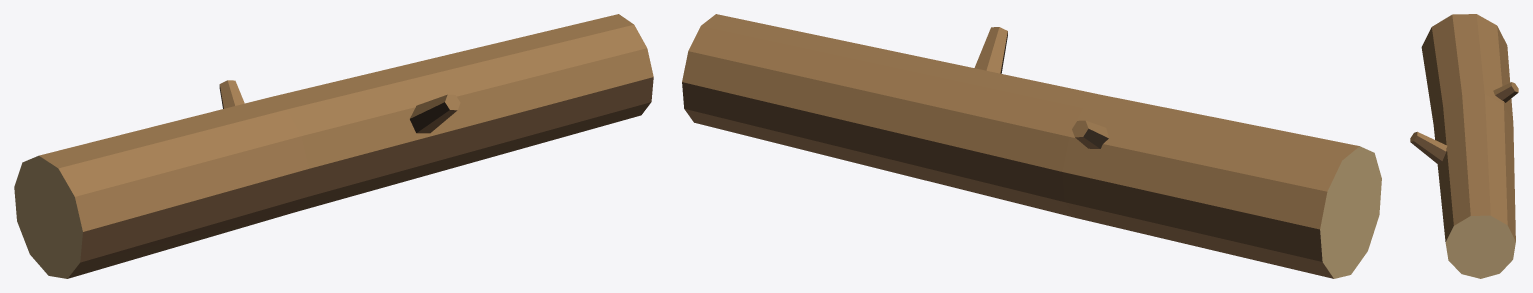
File: TW_PROP_LOG_STRAIGHT_B_LOD0.glb
3 views of the same model, side by side, from view 1: azimuth 30°, elevation 25°; view 2: azimuth 150°, elevation 25°; view 3: azimuth 270°, elevation 25° (orthographic). The views are drawn at different scales.
Visible parts, largest first — view 1: TW_PROP_LOG_STRAIGHT_B_LOD0; view 2: TW_PROP_LOG_STRAIGHT_B_LOD0; view 3: TW_PROP_LOG_STRAIGHT_B_LOD0.
Boxes of the visible parts, x1,y1,x2,y2 form: TW_PROP_LOG_STRAIGHT_B_LOD0: [14, 14, 653, 278]; TW_PROP_LOG_STRAIGHT_B_LOD0: [682, 14, 1381, 278]; TW_PROP_LOG_STRAIGHT_B_LOD0: [1410, 14, 1518, 278].
Bounding box in the file's own units: 2.57 × 0.4873 × 0.5983.
1 material, 1 textured.
